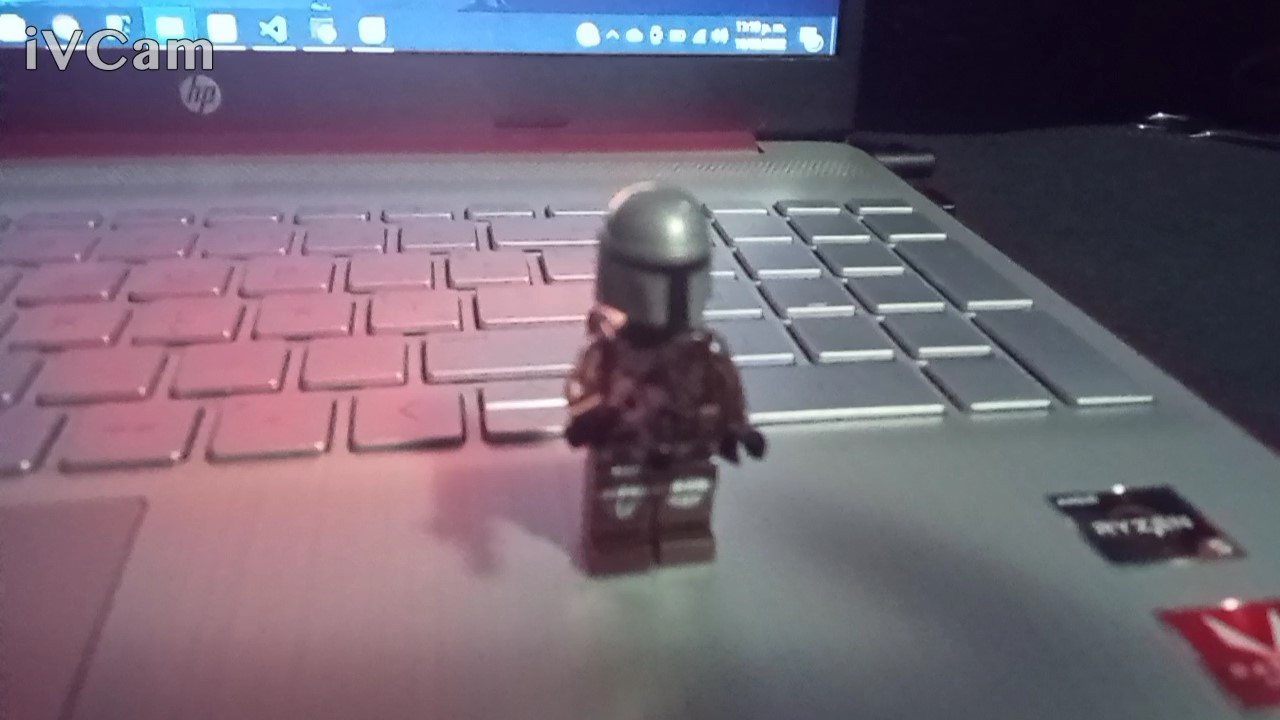mandalorian: (528, 165, 780, 596)
